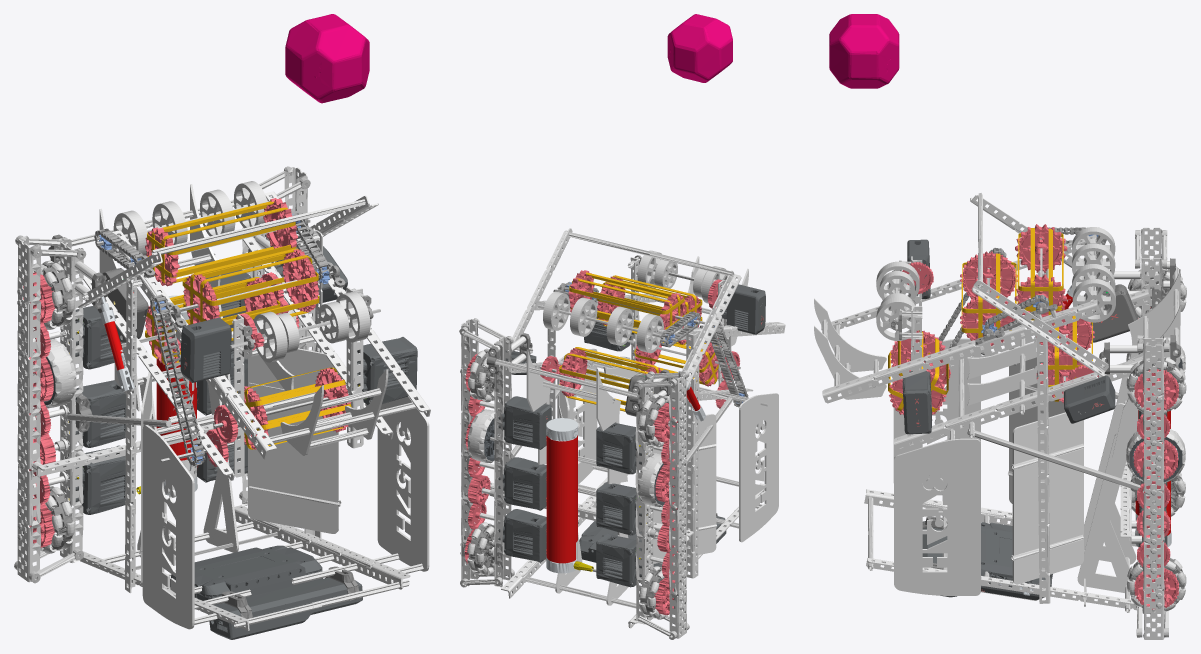
File: robot-web-lite.glb
The picture shows the model from 3 angles, left to right: view 1: azimuth 30°, elevation 25°; view 2: azimuth 150°, elevation 25°; view 3: azimuth 270°, elevation 25°; orthographic projection. The views are drawn at different scales.
Parts seen in each view (by area): view 1: Part 1 (×18), V5 Smart Motor (18:1) (276-4840) (×6), 1 x 2 x 1 x 30 Aluminum C-Channel (276-2289) (×2), 1 x 1 x 28 Aluminum Angle (276-6484) (×4), 2" 30A Straight Flex Wheel (217-6353) (×6), 276-9142-001_Instruction- Red, V5 Robot Brain (276-4810), 32T Sprocket, 6P (276-8330) (×4), 1 x 2 x 1 x 28 Aluminum C-Channel (276-2289), 1 x 1 x 27 Aluminum Angle (276-6484) (×2), V5 Robot Battery (276-4811), 1 x 1 x 25 Aluminum Angle (276-6484) (×2) (+19 smaller); view 2: Part 1 (×7), V5 Smart Motor (18:1) (276-4840) (×7), 1 x 2 x 1 x 30 Aluminum C-Channel (276-2289) (×2), Pneumatic Reservoir (276-8749), 1 x 2 x 1 x 28 Aluminum C-Channel (276-2289) (×2), 2.75" Anti-Static Omni-Directional Wheel (220mm Travel) (276 (×4), 2" 30A Straight Flex Wheel (217-6353) (×5), 276-9142-001_Instruction- Red, 1 x 1 x 28 Aluminum Angle (276-6484) (×2), 1 x 1 x 15 Aluminum Angle (276-6484) (×2), 2.75" Anti-Static Wheel (220mm Travel) (276-8098) (×2), 32T Sprocket, 6P (276-8330) (×3) (+10 smaller); view 3: Part 1 (×12), 1 x 2 x 1 x 30 Aluminum C-Channel (276-2289) (×2), 1 x 1 x 28 Aluminum Angle (276-6484) (×3), 32T Sprocket, 6P (276-8330) (×6), 2" 30A Straight Flex Wheel (217-6353) (×6), 1 x 1 x 27 Aluminum Angle (276-6484) (×2), 276-9142-001_Instruction- Red, 1 x 1 x 25 Aluminum Angle (276-6484) (×2), 2.75" Anti-Static Omni-Directional Wheel (220mm Travel) (276 (×4), 1 x 1 x 15 Aluminum Angle (276-6484) (×2), 48T High Strength Gear V2 (276-7573) (×3), V5 Smart Motor (5.5W) (276-4842) (×2) (+10 smaller).
Part boxes in pixels (bbox=[...]): Part 1 (×18): bbox=[99, 184, 429, 629]; V5 Smart Motor (18:1) (276-4840) (×6): bbox=[68, 306, 417, 514]; 1 x 2 x 1 x 30 Aluminum C-Channel (276-2289) (×2): bbox=[17, 167, 307, 582]; 1 x 1 x 28 Aluminum Angle (276-6484) (×4): bbox=[80, 230, 410, 630]; 2" 30A Straight Flex Wheel (217-6353) (×6): bbox=[113, 181, 370, 362]; 276-9142-001_Instruction- Red: bbox=[285, 14, 369, 103]; V5 Robot Brain (276-4810): bbox=[170, 545, 322, 605]; 32T Sprocket, 6P (276-8330) (×4): bbox=[183, 249, 350, 432]; 1 x 2 x 1 x 28 Aluminum C-Channel (276-2289): bbox=[60, 239, 83, 562]; 1 x 1 x 27 Aluminum Angle (276-6484) (×2): bbox=[111, 191, 430, 459]; V5 Robot Battery (276-4811): bbox=[208, 577, 362, 639]; 1 x 1 x 25 Aluminum Angle (276-6484) (×2): bbox=[83, 237, 393, 480]; Part 1 (×7): bbox=[526, 276, 778, 563]; V5 Smart Motor (18:1) (276-4840) (×7): bbox=[498, 301, 647, 587]; 1 x 2 x 1 x 30 Aluminum C-Channel (276-2289) (×2): bbox=[461, 319, 686, 638]; Pneumatic Reservoir (276-8749): bbox=[546, 418, 593, 573]; 1 x 2 x 1 x 28 Aluminum C-Channel (276-2289) (×2): bbox=[494, 337, 653, 624]; 2.75" Anti-Static Omni-Directional Wheel (220mm Travel) (276 (×4): bbox=[467, 348, 672, 619]; 2" 30A Straight Flex Wheel (217-6353) (×5): bbox=[543, 250, 663, 353]; 276-9142-001_Instruction- Red: bbox=[667, 14, 732, 82]; 1 x 1 x 28 Aluminum Angle (276-6484) (×2): bbox=[501, 332, 699, 598]; 1 x 1 x 15 Aluminum Angle (276-6484) (×2): bbox=[511, 228, 741, 393]; 2.75" Anti-Static Wheel (220mm Travel) (276-8098) (×2): bbox=[467, 409, 669, 507]; 32T Sprocket, 6P (276-8330) (×3): bbox=[559, 276, 721, 396]; Part 1 (×12): bbox=[814, 269, 1180, 595]; 1 x 2 x 1 x 30 Aluminum C-Channel (276-2289) (×2): bbox=[1141, 227, 1164, 639]; 1 x 1 x 28 Aluminum Angle (276-6484) (×3): bbox=[864, 332, 1142, 610]; 32T Sprocket, 6P (276-8330) (×6): bbox=[888, 251, 1094, 415]; 2" 30A Straight Flex Wheel (217-6353) (×6): bbox=[876, 227, 1115, 340]; 1 x 1 x 27 Aluminum Angle (276-6484) (×2): bbox=[821, 234, 1100, 403]; 276-9142-001_Instruction- Red: bbox=[829, 14, 899, 88]; 1 x 1 x 25 Aluminum Angle (276-6484) (×2): bbox=[894, 289, 1151, 451]; 2.75" Anti-Static Omni-Directional Wheel (220mm Travel) (276 (×4): bbox=[1126, 266, 1186, 611]; 1 x 1 x 15 Aluminum Angle (276-6484) (×2): bbox=[970, 195, 1108, 376]; 48T High Strength Gear V2 (276-7573) (×3): bbox=[1133, 369, 1179, 609]; V5 Smart Motor (5.5W) (276-4842) (×2): bbox=[907, 239, 1115, 423].
Bounding box in the file's own units: 0.3387 × 0.7298 × 0.4371.
